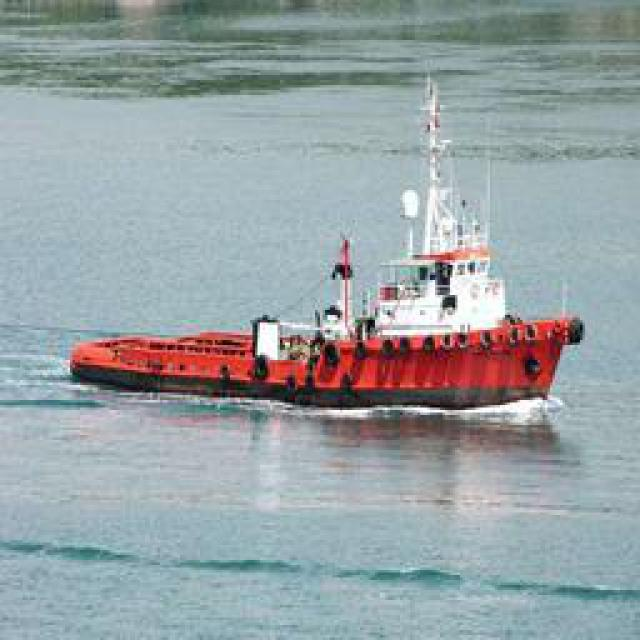Ship: (53, 71, 598, 419)
